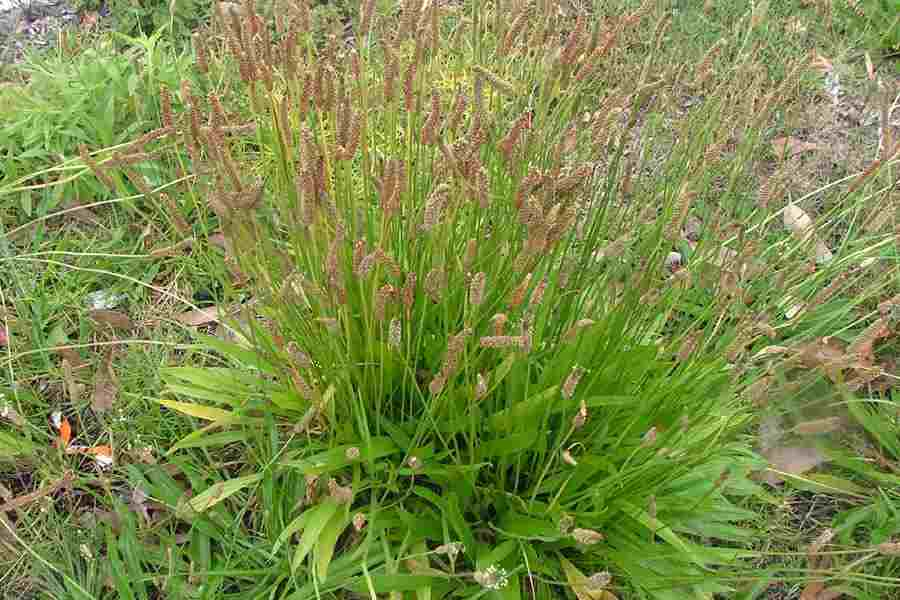buckhorn plantain: (86, 3, 731, 580)
